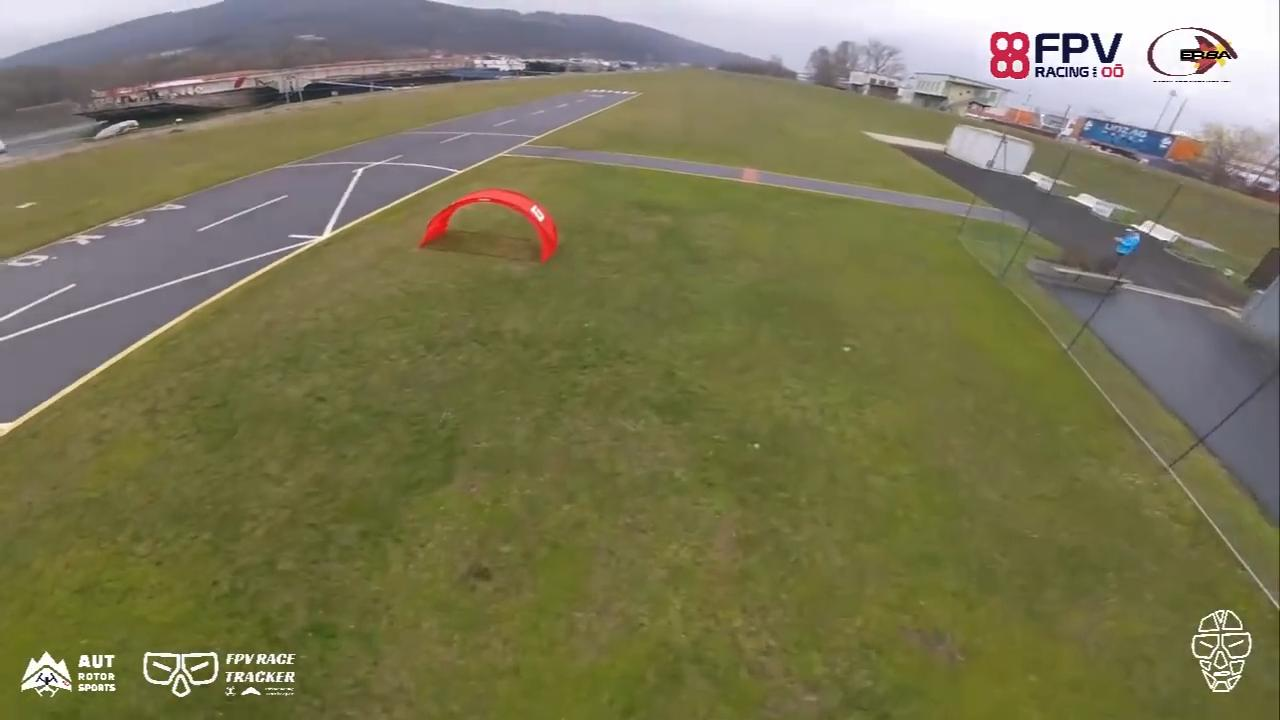gate: (416, 188, 560, 269)
